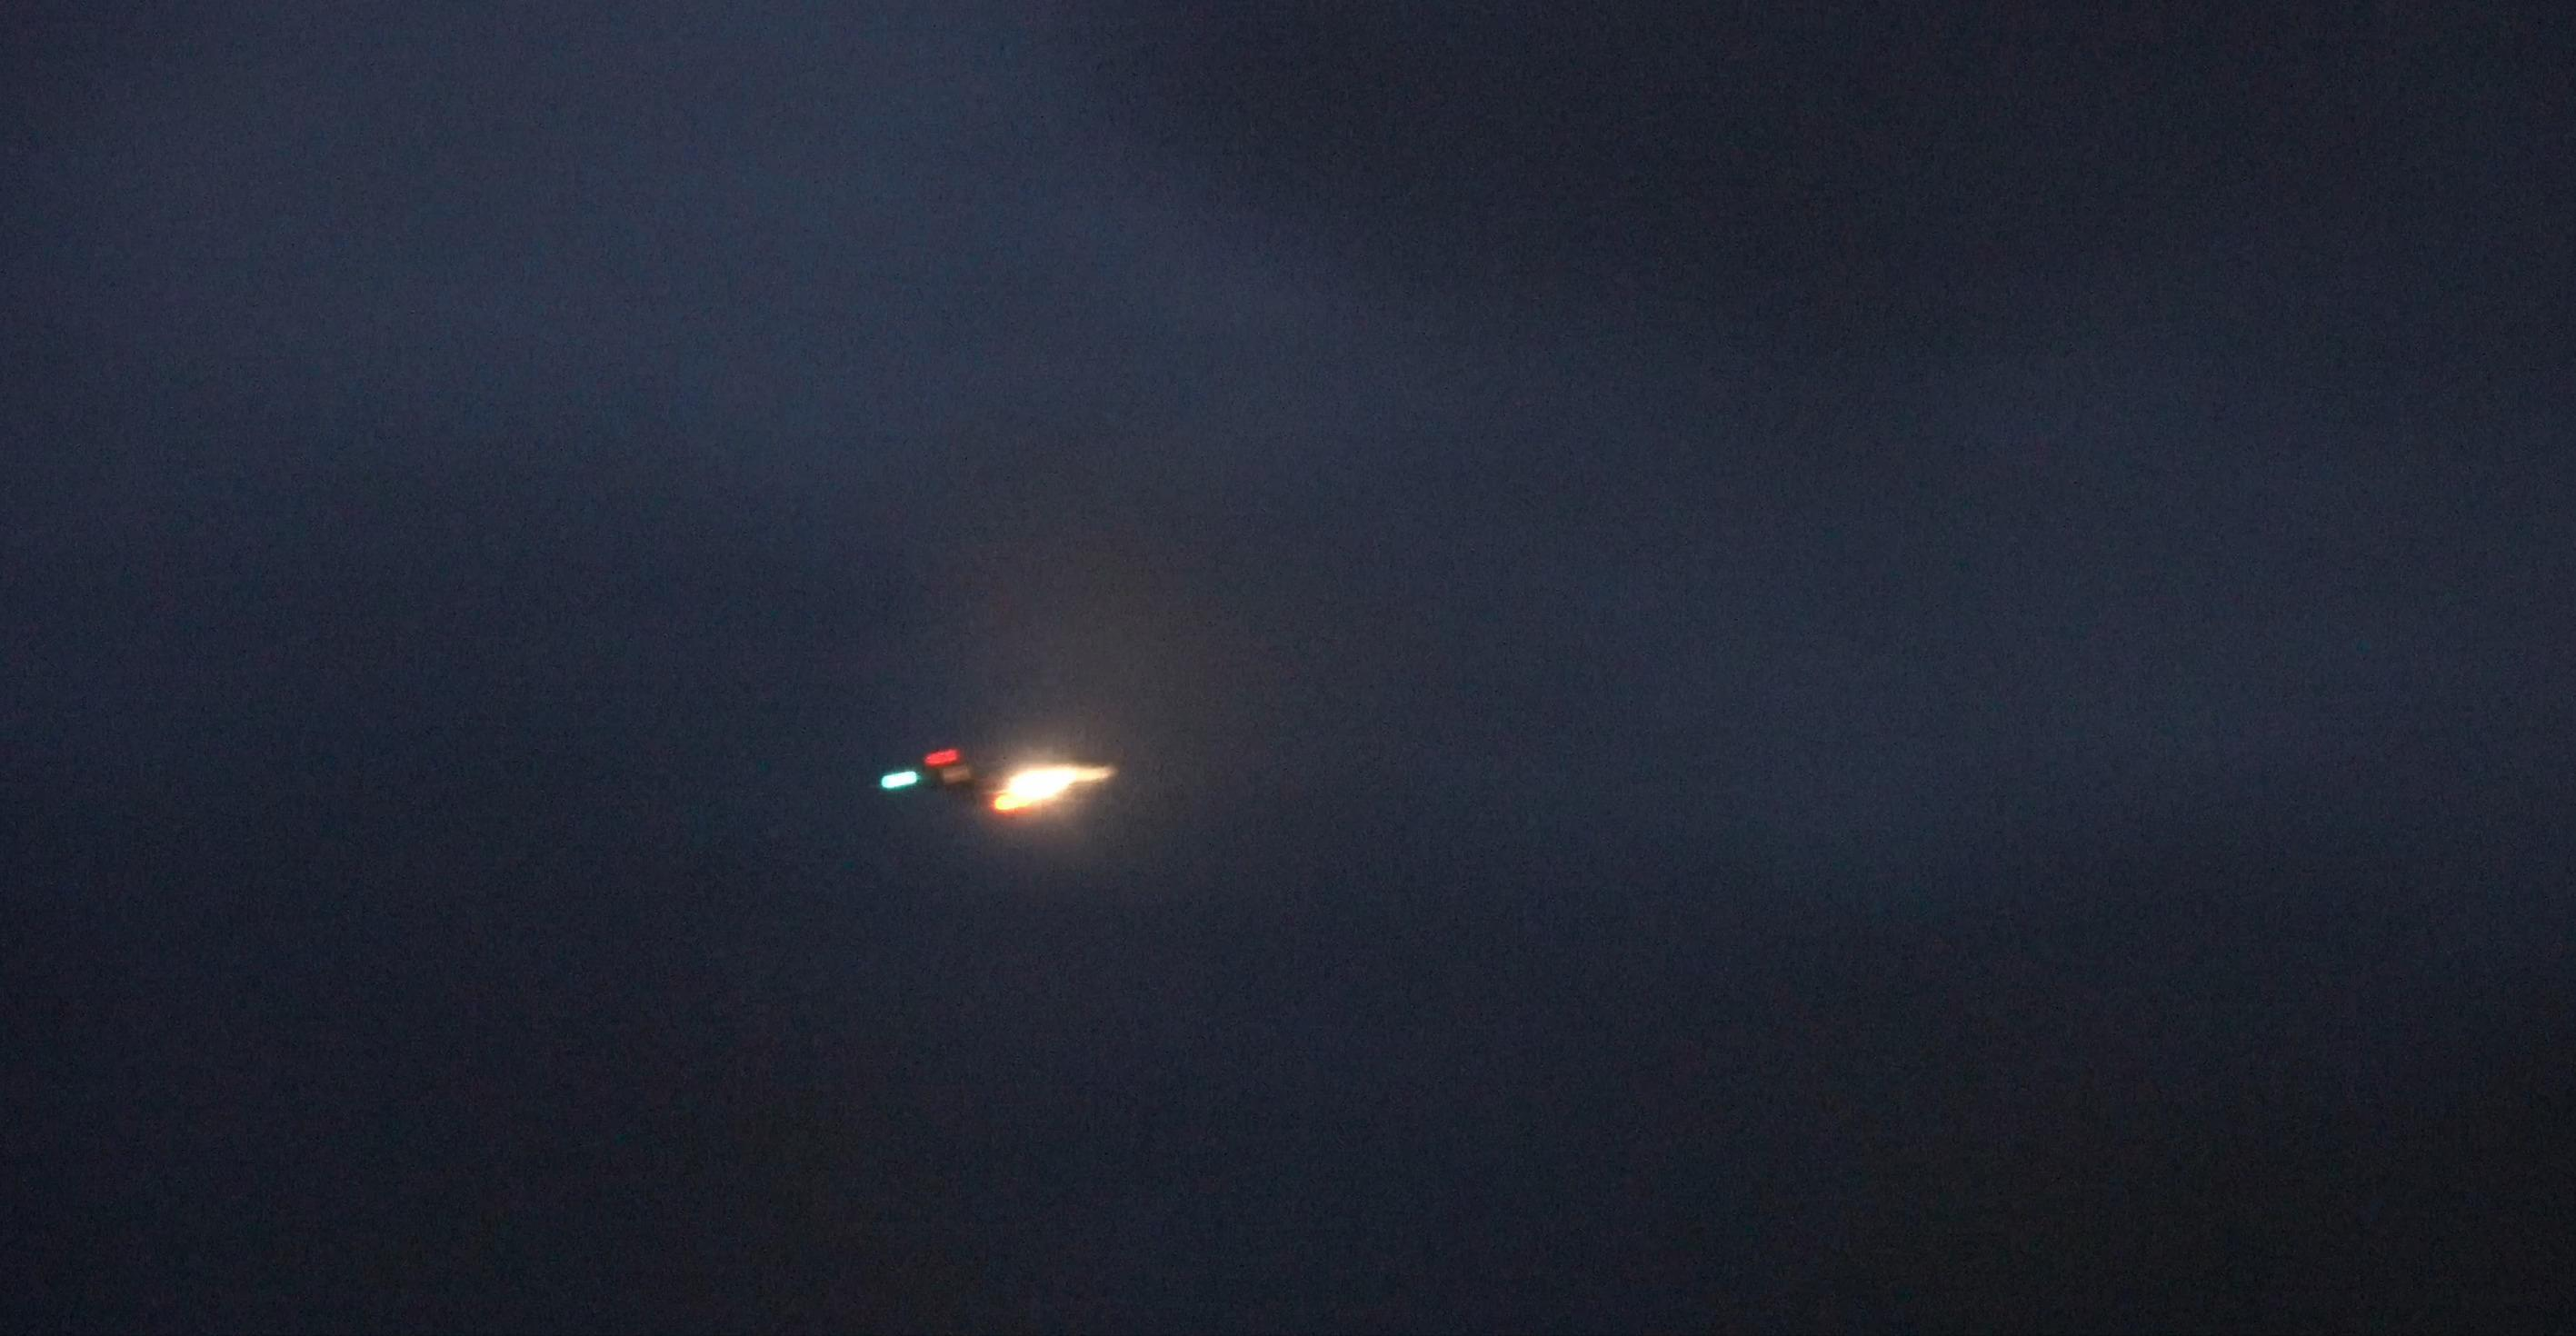Plane: (767, 690, 1257, 874)
